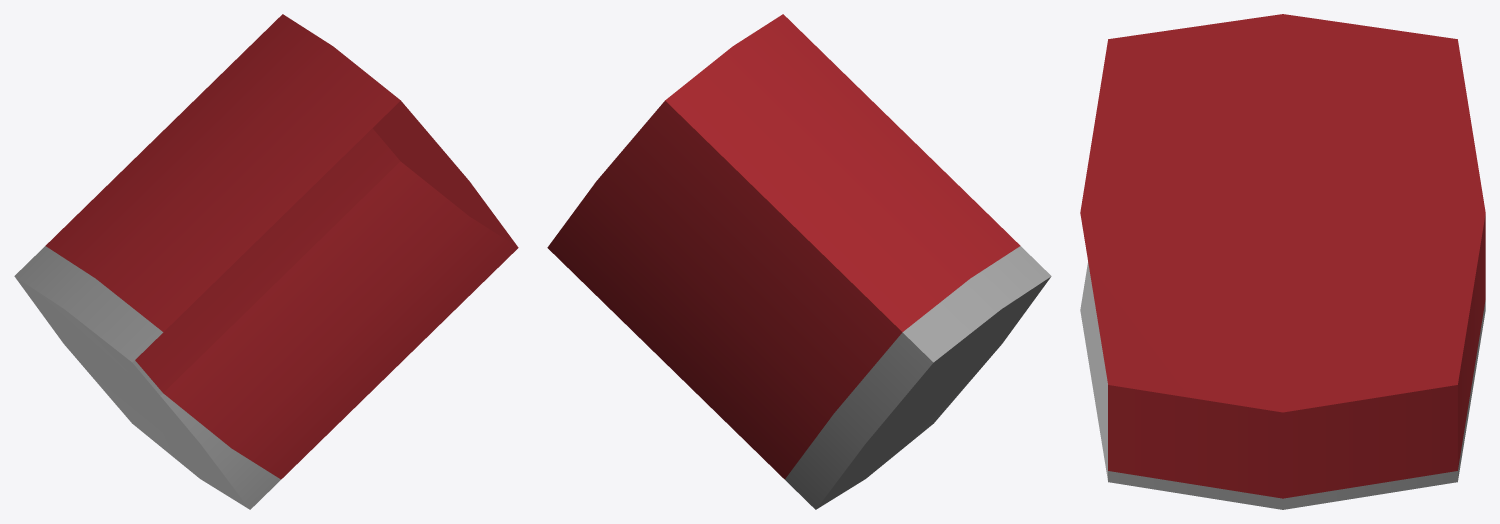
File: Trash 02.FBX
The picture shows the model from 3 angles, left to right: view 1: azimuth 30°, elevation 25°; view 2: azimuth 150°, elevation 25°; view 3: azimuth 270°, elevation 25°; orthographic projection. The views are drawn at different scales.
Visible parts, largest first — view 1: Trash 02; view 2: Trash 02; view 3: Trash 02.
Part boxes in pixels (x1=…): Trash 02: x1=14, y1=14, x2=518, y2=509; Trash 02: x1=547, y1=14, x2=1051, y2=509; Trash 02: x1=1080, y1=14, x2=1485, y2=509.
Size of the model in its own units: 34.69 by 32.76 by 20.33.
Materials: 1 (1 with a texture image).
